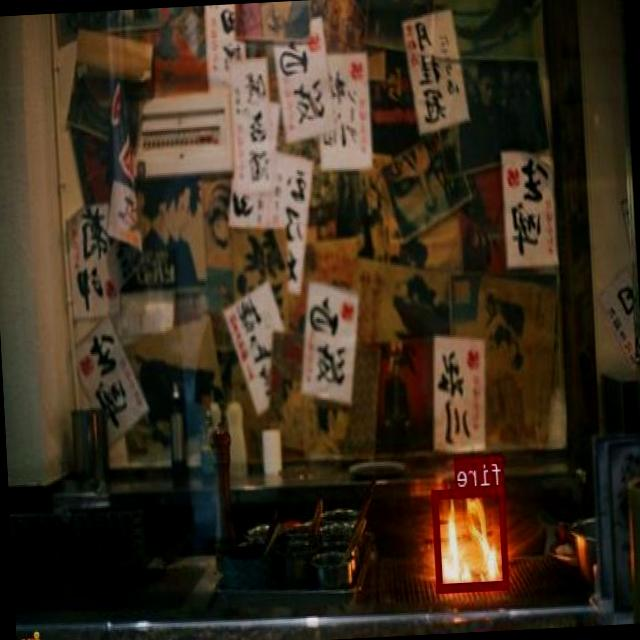fire: (434, 484, 510, 590)
